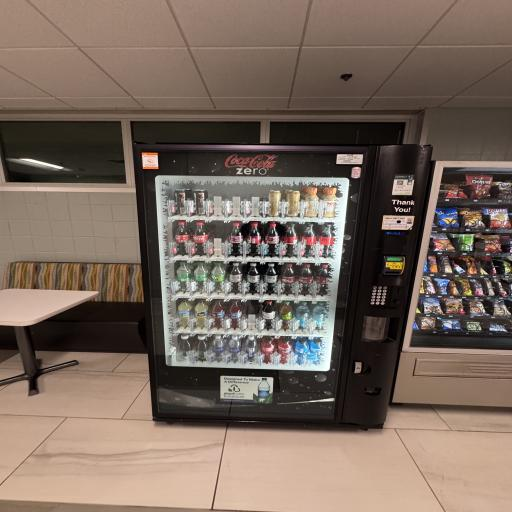bench: (10, 260, 142, 346)
table: (0, 288, 75, 382)
vending machine: (131, 141, 403, 430), (407, 159, 512, 411)
water sprinkler: (336, 71, 362, 85)
